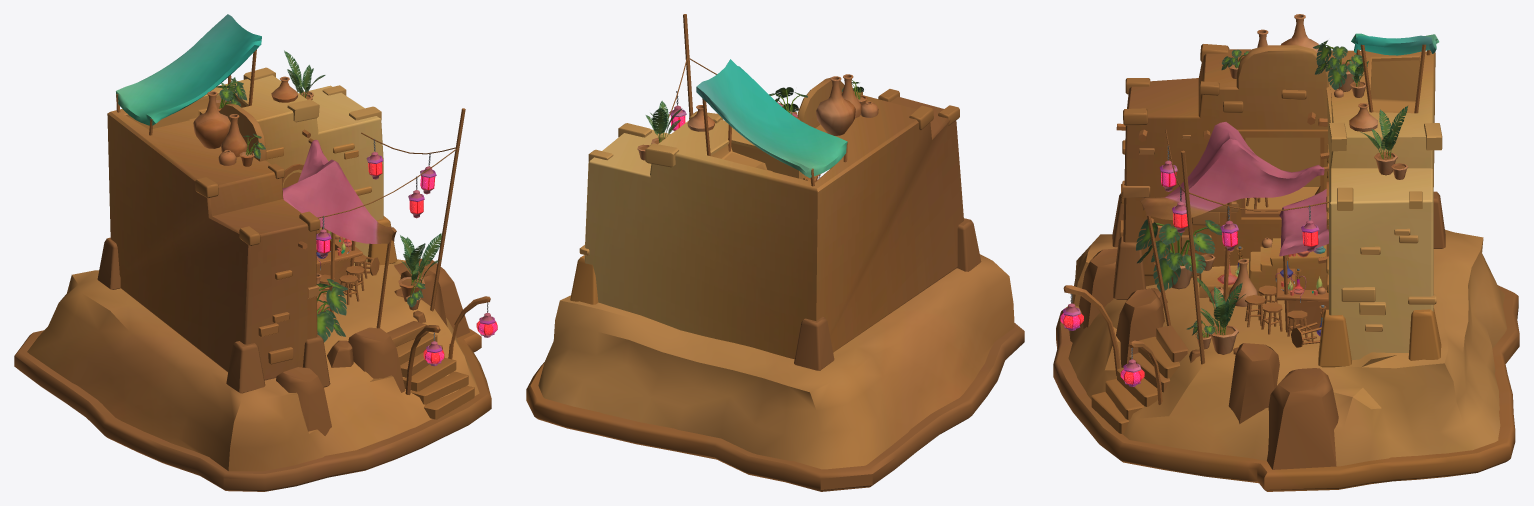
File: shisha-oasis.glb
3 renders of one model, left to right at view 1: azimuth 30°, elevation 25°; view 2: azimuth 150°, elevation 25°; view 3: azimuth 270°, elevation 25°, orthographic. The views are drawn at different scales.
Visible parts, largest first — view 1: G_main; view 2: G_main; view 3: G_main.
Boxes of the visible parts, x1,y1,x2,y2 form: G_main: (14,14,497,491); G_main: (526,14,1024,491); G_main: (1053,14,1519,491).
Size of the model in its own units: 0.0836 by 0.0701 by 0.0817.
Materials: 3 (2 with a texture image).
